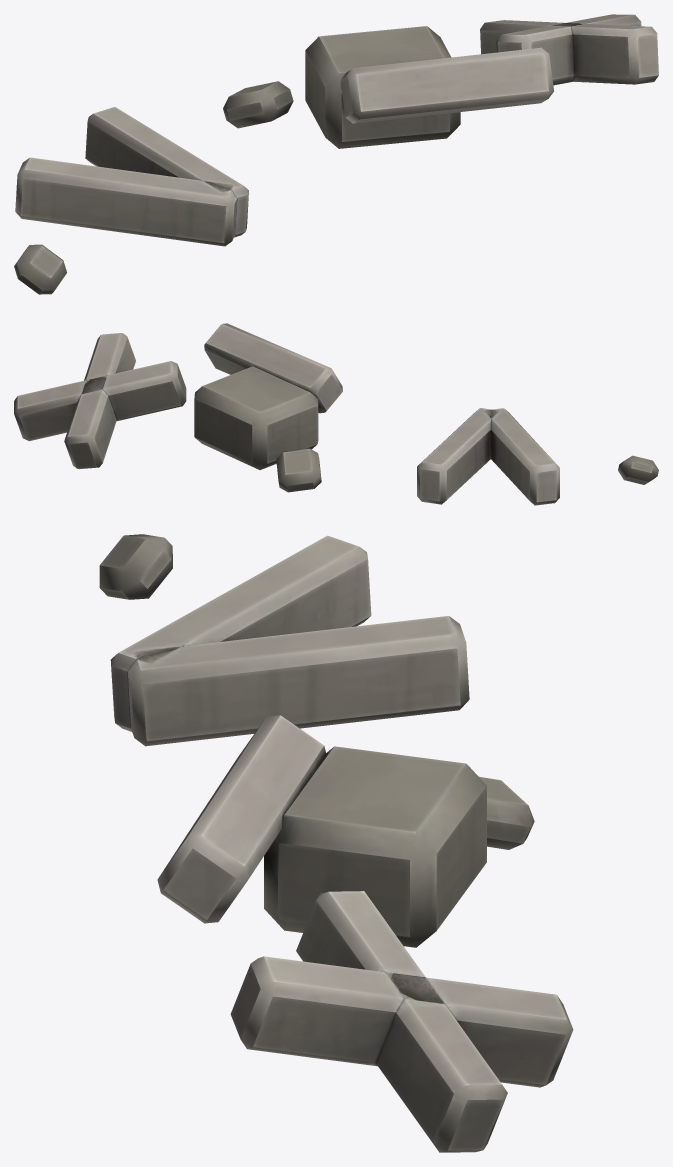
The model's file is camp_strays.glb.
The picture shows the model from 3 angles, top to bottom: view 1: azimuth 30°, elevation 25°; view 2: azimuth 150°, elevation 25°; view 3: azimuth 270°, elevation 25°; orthographic projection. The views are drawn at different scales.
Visible parts, largest first — view 1: camp_strays_body; view 2: camp_strays_body; view 3: camp_strays_body.
Boxes of the visible parts, x1,y1,x2,y2 form: camp_strays_body: (14,14,658,294); camp_strays_body: (14,323,658,505); camp_strays_body: (99,534,573,1152).
Bounding box in the file's own units: 2.43 × 0.4042 × 0.8917.
1 material, 1 textured.
